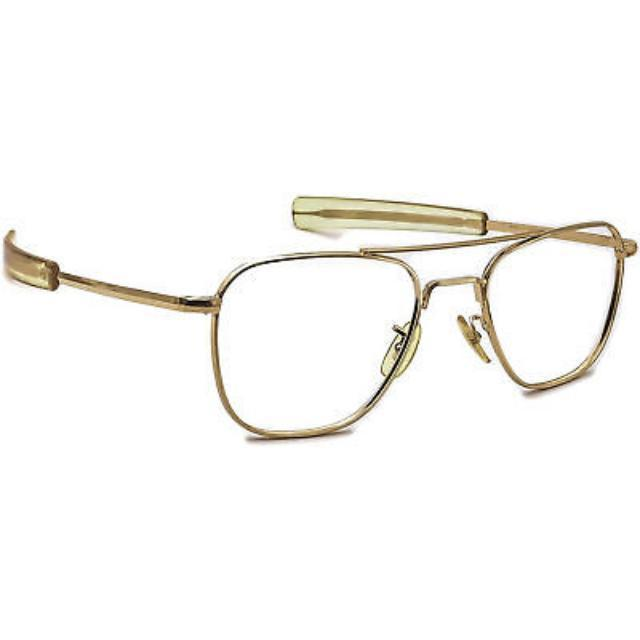mask: (7, 192, 638, 440)
